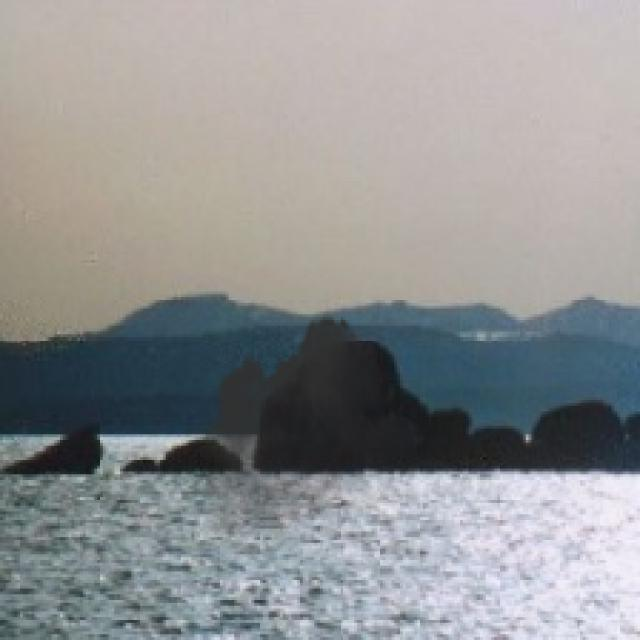Smoke: (197, 306, 429, 558)
